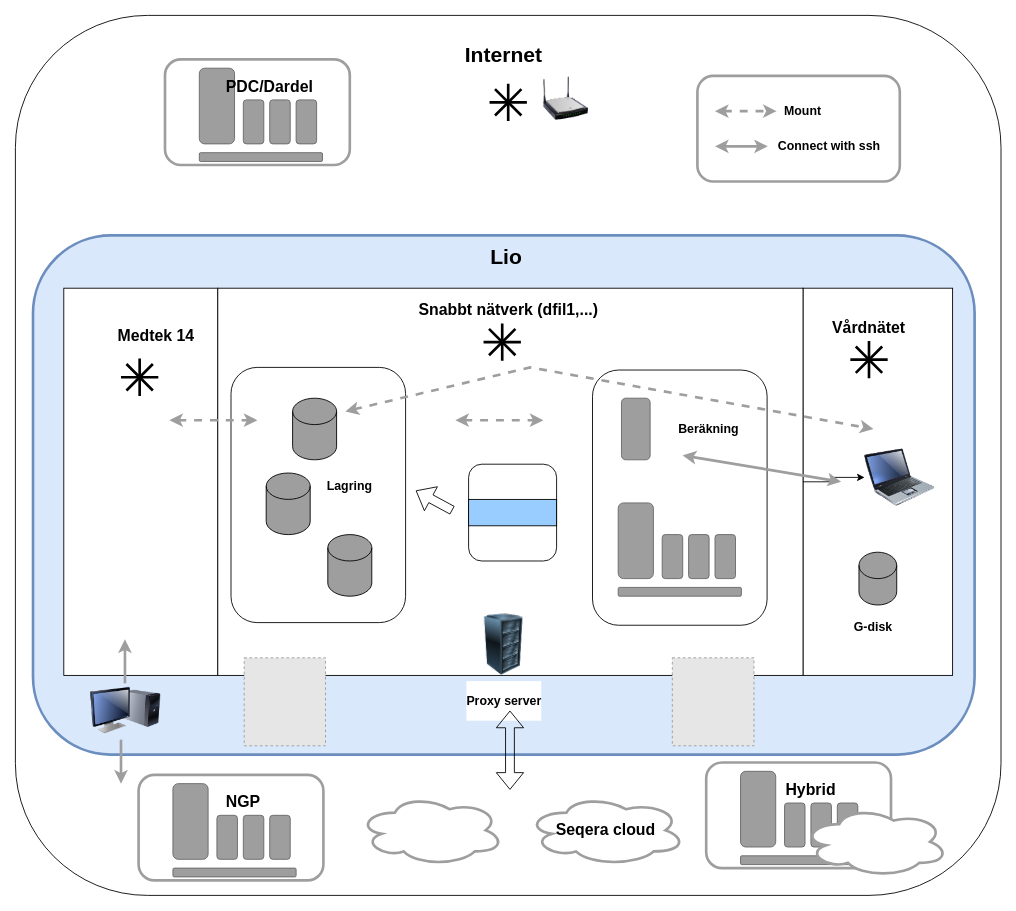
Image size: 1016x911. Some labels were removed from this diagram. Grey dashed boxes stand in for pictures. The box of each missing label's shape, as (x1, y1, x2, y2) in pixels:
AWS: (357, 793, 505, 866)
Sekvensering: (468, 499, 557, 526)
